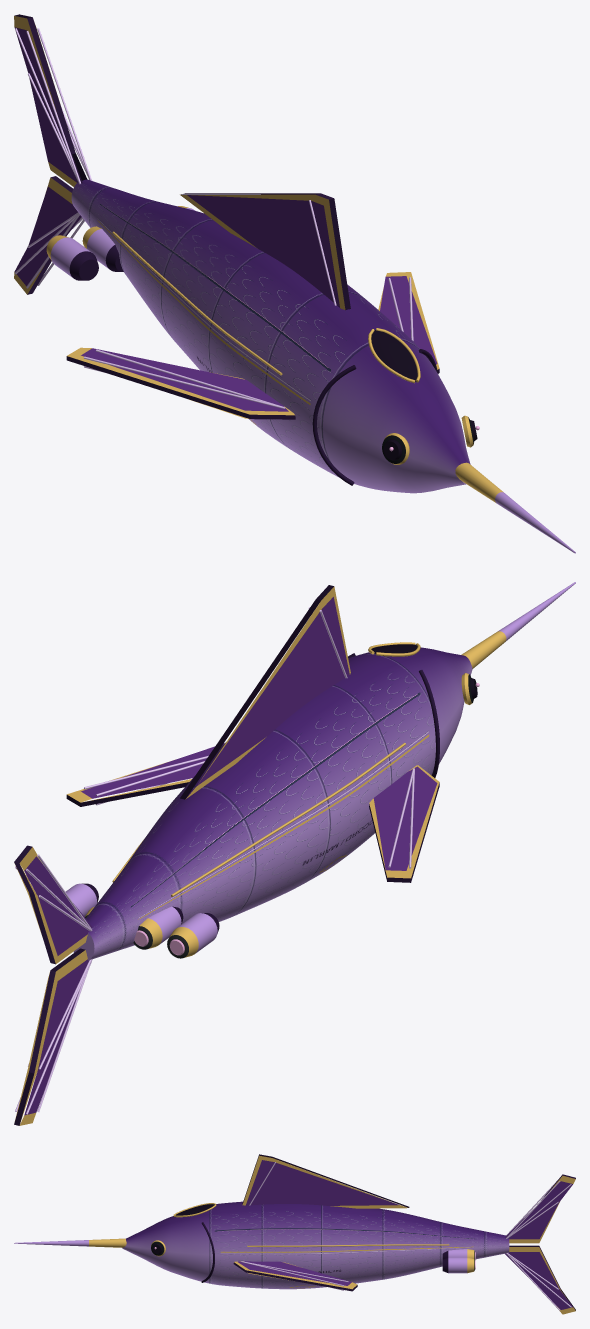
3 views of the same model, one above another, from view 1: azimuth 30°, elevation 25°; view 2: azimuth 150°, elevation 25°; view 3: azimuth 270°, elevation 25° (orthographic). The views are drawn at different scales.
Parts seen in each view (by area): view 1: marlin_hull; view 2: marlin_hull; view 3: marlin_hull.
Boxes of the visible parts, left/top/right/bottom form: marlin_hull: left=14, top=14, right=575, bottom=553; marlin_hull: left=14, top=582, right=575, bottom=1125; marlin_hull: left=14, top=1154, right=575, bottom=1314.
Size of the model in its own units: 29.91 by 26.23 by 84.
Materials: 1 (1 with a texture image).
